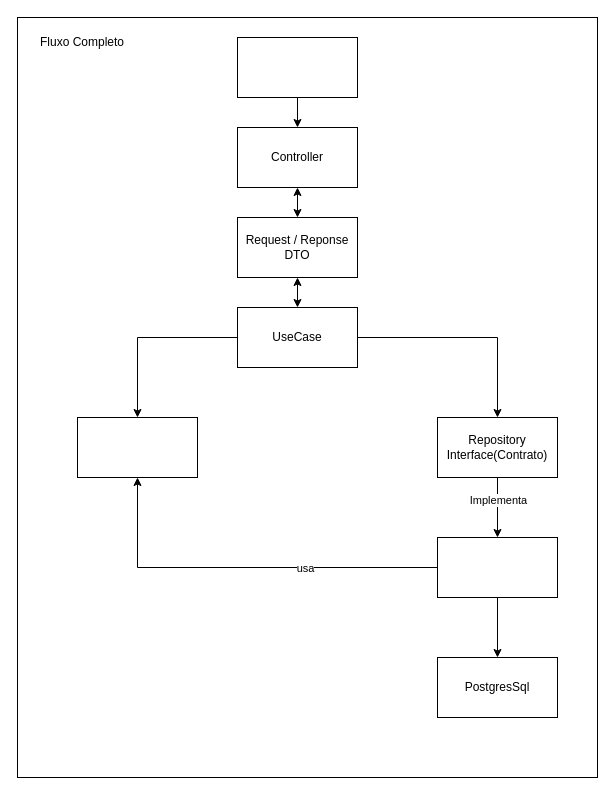
The diagram is 615 pixels wide and 795 high, and some of its shapes have lost their labels. Each missing label, with the centre of its shape:
"Domain Entidades e Regras" goes at point (137, 447).
"Front" goes at point (297, 67).
"RepositoryImpl JPA resolve" goes at point (497, 567).
